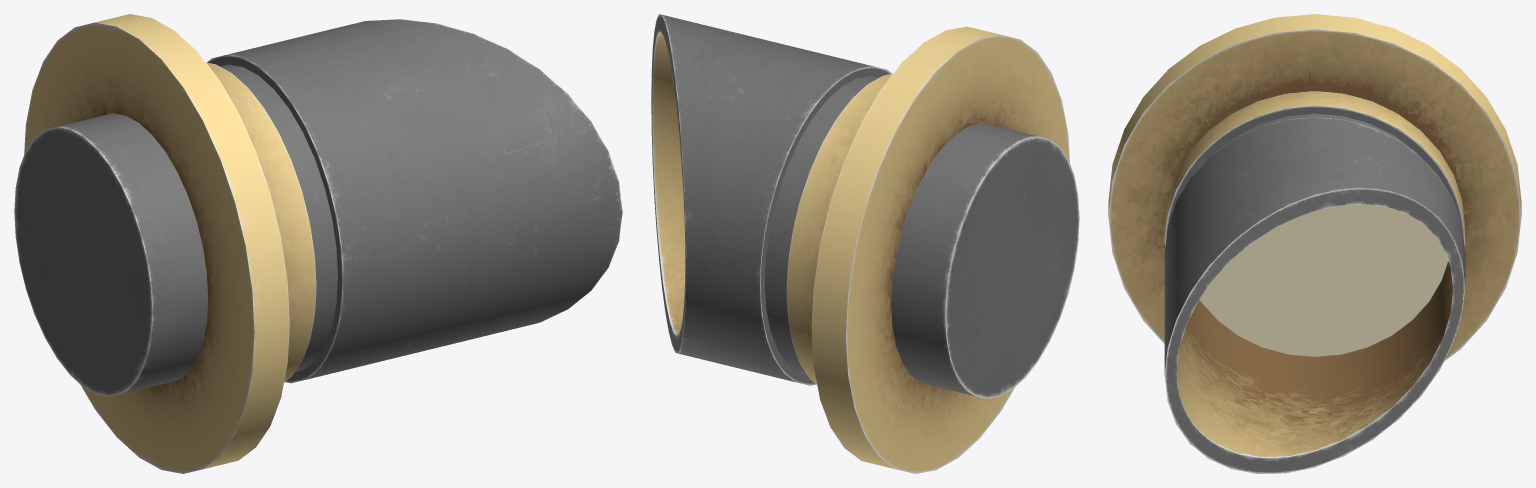
File: guard_4_c_b.glb
3 renders of one model, left to right at view 1: azimuth 30°, elevation 25°; view 2: azimuth 150°, elevation 25°; view 3: azimuth 270°, elevation 25°, orthographic. The views are drawn at different scales.
Visible parts, largest first — view 1: guard_4_c_b_lod0; view 2: guard_4_c_b_lod0; view 3: guard_4_c_b_lod0.
Boxes of the visible parts, x1=… form: guard_4_c_b_lod0: x1=14, y1=14, x2=622, y2=473; guard_4_c_b_lod0: x1=651, y1=14, x2=1079, y2=473; guard_4_c_b_lod0: x1=1108, y1=14, x2=1521, y2=473.
Size of what is drawn, in the model's own units: 0.0475 by 0.0417 by 0.0417.
Materials: 1 (1 with a texture image).
